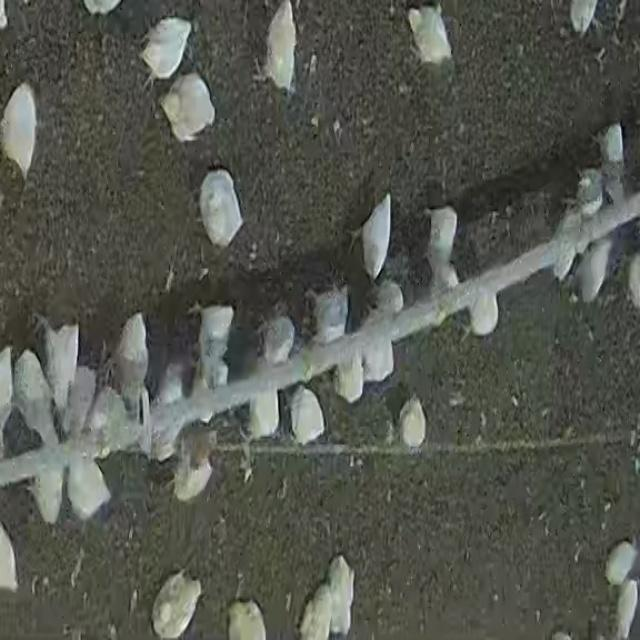chicken: (194, 164, 249, 260), (104, 309, 150, 420), (0, 78, 44, 185), (349, 193, 397, 281), (14, 349, 56, 444), (160, 72, 214, 143), (43, 319, 81, 410), (151, 571, 202, 638), (139, 16, 191, 81), (173, 428, 217, 501), (263, 0, 298, 91), (67, 452, 112, 522), (407, 3, 452, 66), (64, 362, 98, 440), (325, 553, 355, 637), (288, 386, 325, 446), (396, 393, 430, 458), (31, 463, 66, 525), (577, 240, 610, 304), (247, 387, 282, 442), (260, 314, 295, 367), (226, 600, 267, 640), (468, 291, 500, 339), (605, 540, 637, 587)
